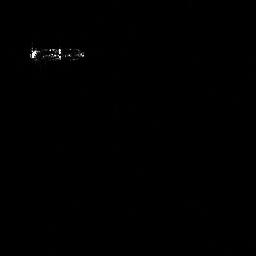ship: (26, 43, 88, 64)
